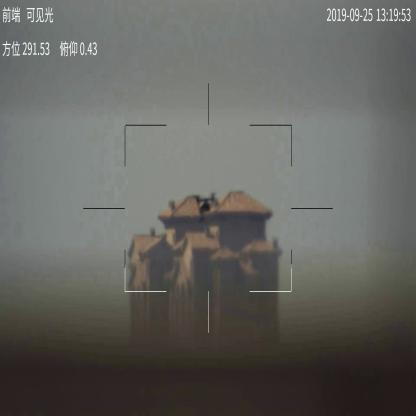uav: (192, 191, 216, 221)
